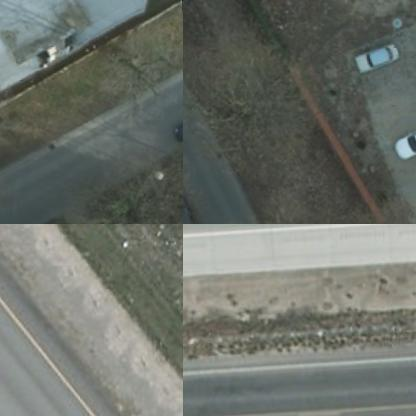car: (356, 32, 404, 70), (183, 187, 214, 223), (393, 107, 415, 156)
